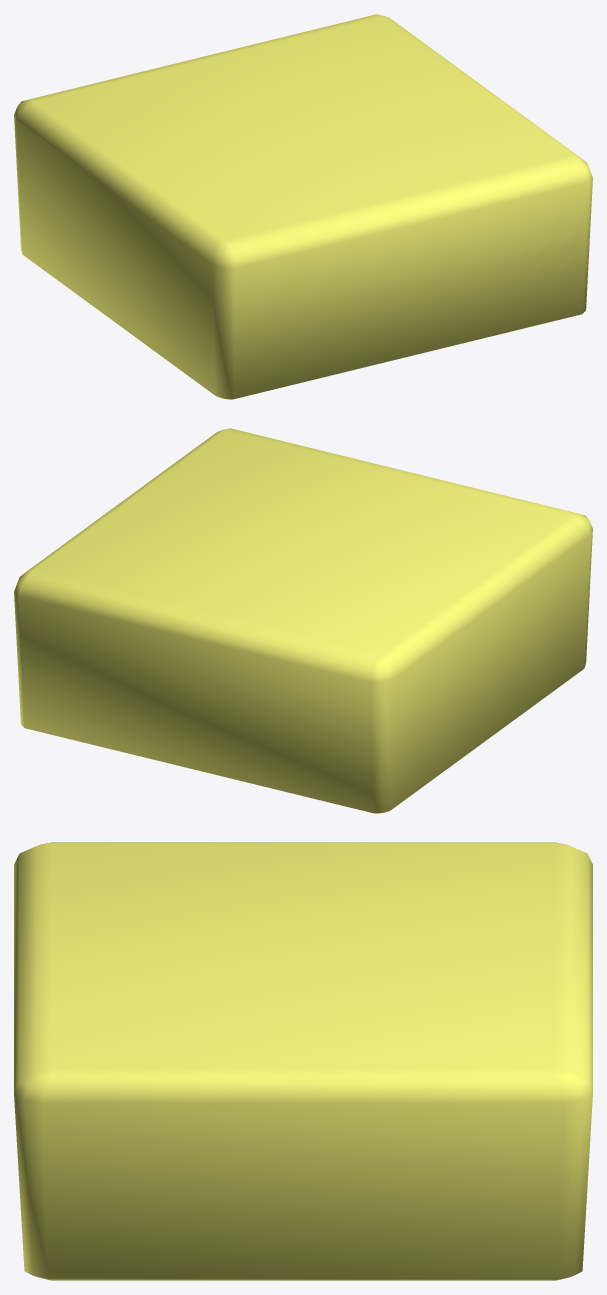
Rendered from SM_SofaPieceA01.fbx.
The picture shows the model from 3 angles, top to bottom: view 1: azimuth 30°, elevation 25°; view 2: azimuth 150°, elevation 25°; view 3: azimuth 270°, elevation 25°; orthographic projection. The views are drawn at different scales.
Parts seen in each view (by area): view 1: SM_SofaPieceA01; view 2: SM_SofaPieceA01; view 3: SM_SofaPieceA01.
Part boxes in pixels (x1,y1,x2,y2): SM_SofaPieceA01: (14,14,592,399); SM_SofaPieceA01: (14,428,592,813); SM_SofaPieceA01: (14,842,592,1280).
Size of the model in its own units: 0.8669 by 0.3433 by 0.8633.
